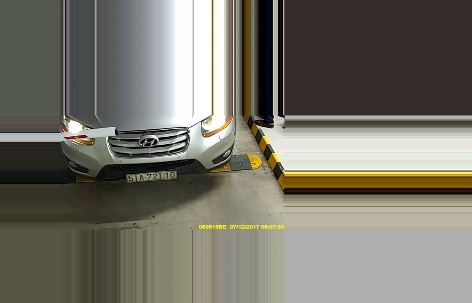plate: (125, 169, 181, 183)
